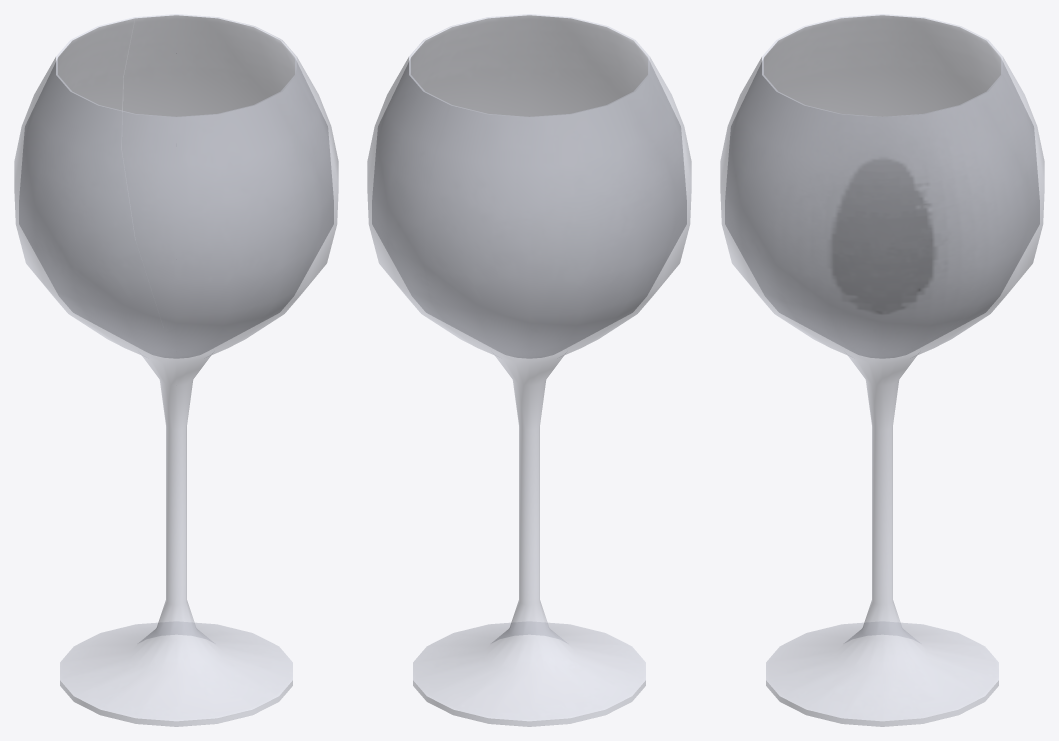
The model's file is SM_Wine_Glass_01.glb.
3 renders of one model, left to right at view 1: azimuth 30°, elevation 25°; view 2: azimuth 150°, elevation 25°; view 3: azimuth 270°, elevation 25°, orthographic.
Visible parts, largest first — view 1: SM_Wine_Glass_01; view 2: SM_Wine_Glass_01; view 3: SM_Wine_Glass_01.
Part boxes in pixels (<box>): SM_Wine_Glass_01: <box>14,14,338,726</box>; SM_Wine_Glass_01: <box>367,14,691,726</box>; SM_Wine_Glass_01: <box>720,14,1044,726</box>.
Bounding box in the file's own units: 0.1021 × 0.2088 × 0.1005.
1 material, 1 textured.
